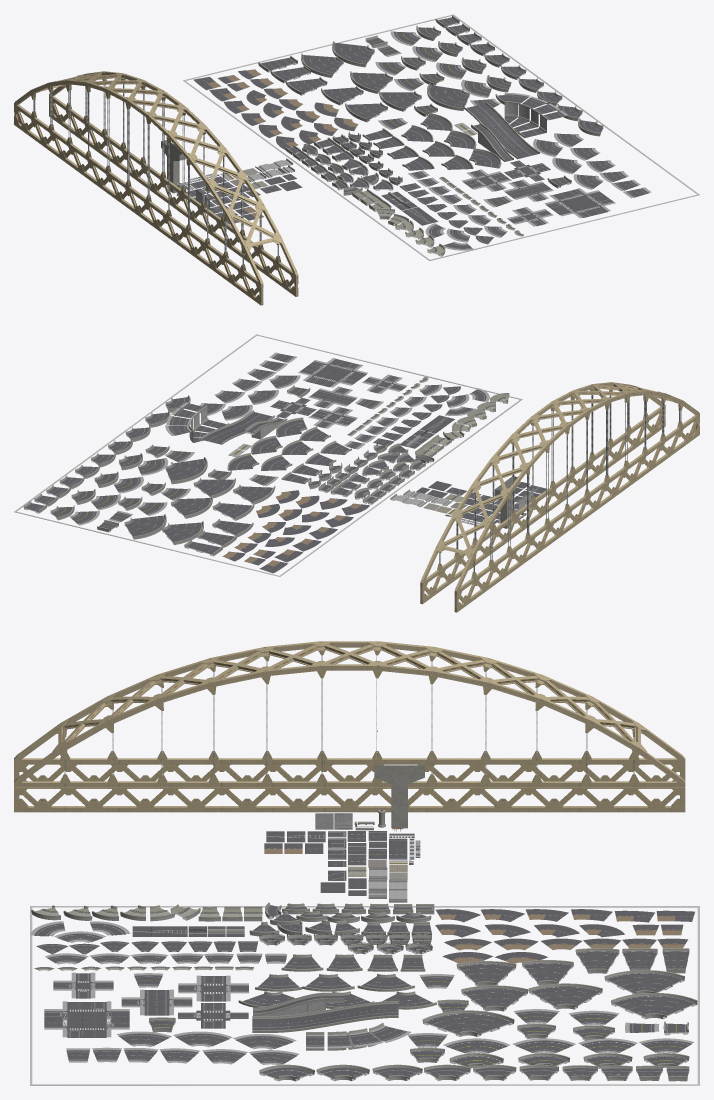
File: modular_streets_kit.glb
3 renders of one model, top to bottom at view 1: azimuth 30°, elevation 25°; view 2: azimuth 150°, elevation 25°; view 3: azimuth 270°, elevation 25°, orthographic. The views are drawn at different scales.
Parts seen in each view (by area): view 1: modular kit00, Rectangle001, modular kit183, modular kit237, modular kit289, modular kit288, modular kit232, modular kit236, modular kit287, modular kit286, modular kit181, modular kit23 (+7 smaller); view 2: modular kit00, Rectangle001, modular kit237, modular kit183, modular kit289, modular kit288, modular kit232, modular kit236, modular kit287, modular kit286, modular kit285, modular kit234 (+5 smaller); view 3: modular kit00, Rectangle001, modular kit183, modular kit237, modular kit289, modular kit23, modular kit288, modular kit287, modular kit286, modular kit232, modular kit236, modular kit181 (+11 smaller).
Part boxes in pixels (x1,y1,x2,y2): modular kit00: [14, 71, 298, 305]; Rectangle001: [183, 14, 699, 260]; modular kit183: [463, 101, 539, 159]; modular kit237: [544, 188, 615, 218]; modular kit289: [427, 83, 469, 110]; modular kit288: [332, 41, 374, 67]; modular kit232: [461, 169, 511, 191]; modular kit236: [503, 179, 553, 201]; modular kit287: [301, 53, 343, 77]; modular kit286: [350, 71, 392, 93]; modular kit181: [471, 122, 513, 161]; modular kit23: [161, 140, 185, 193]; modular kit00: [420, 382, 699, 612]; Rectangle001: [14, 334, 522, 576]; modular kit237: [298, 358, 367, 387]; modular kit183: [200, 410, 274, 444]; modular kit289: [165, 457, 207, 484]; modular kit288: [124, 514, 166, 539]; modular kit232: [308, 406, 357, 428]; modular kit236: [308, 386, 357, 408]; modular kit287: [162, 521, 203, 544]; modular kit286: [171, 496, 212, 518]; modular kit285: [193, 478, 235, 498]; modular kit234: [270, 397, 316, 418]; modular kit00: [14, 641, 685, 812]; Rectangle001: [30, 906, 699, 1085]; modular kit183: [252, 1001, 398, 1032]; modular kit237: [44, 1001, 129, 1037]; modular kit289: [422, 1010, 514, 1036]; modular kit23: [374, 765, 424, 828]; modular kit288: [611, 993, 697, 1019]; modular kit287: [604, 970, 684, 994]; modular kit286: [528, 983, 602, 1009]; modular kit232: [178, 975, 248, 1001]; modular kit236: [121, 989, 192, 1015]; modular kit181: [253, 992, 344, 1015].
Bounding box in the file's own units: 217 × 52.18 × 214.
Materials: 2 (1 with a texture image).
